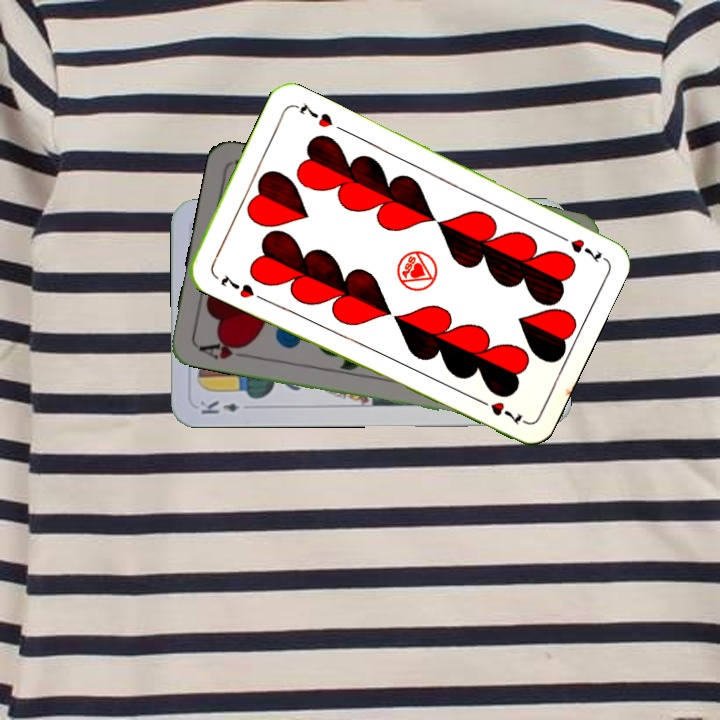EK: (196, 397, 242, 417)
H7: (552, 229, 604, 266), (216, 271, 257, 301)
HA: (194, 335, 253, 362)
